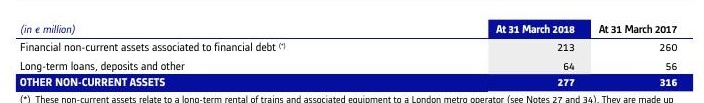table: (0, 0, 704, 103)
